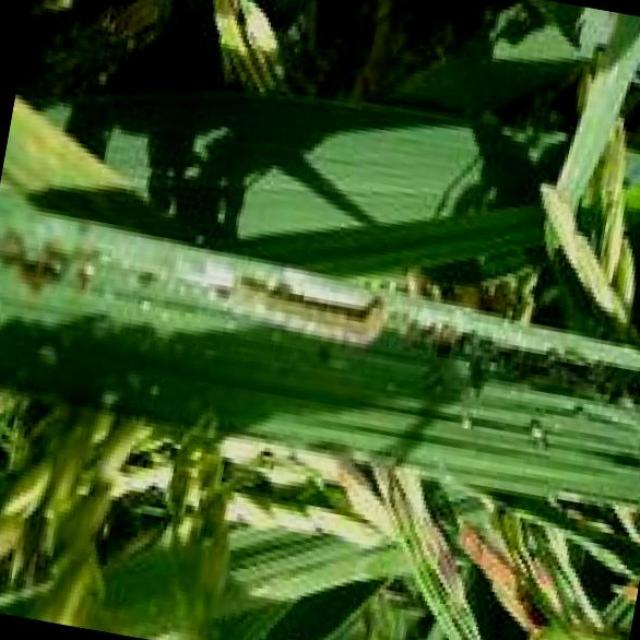leaf folder: (217, 283, 384, 345)
